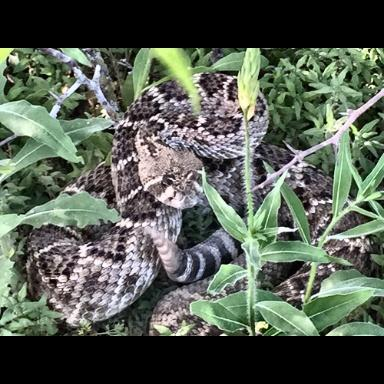snake: (80, 93, 384, 334)
